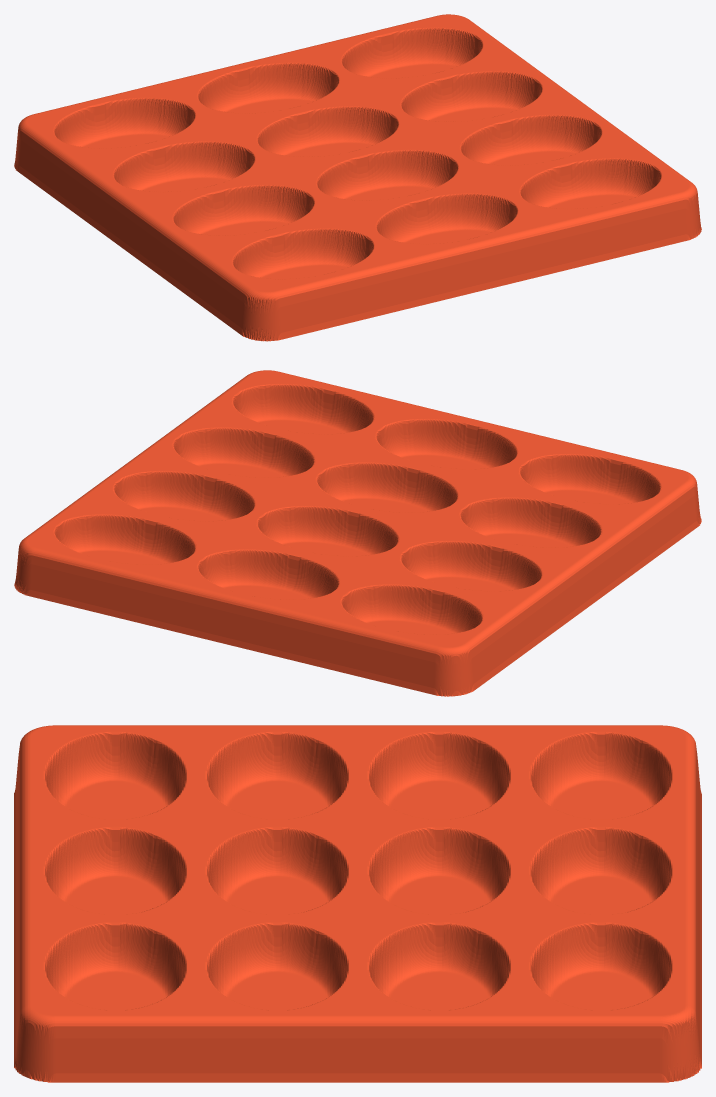
File: mold.glb
3 renders of one model, top to bottom at view 1: azimuth 30°, elevation 25°; view 2: azimuth 150°, elevation 25°; view 3: azimuth 270°, elevation 25°, orthographic. The views are drawn at different scales.
Parts seen in each view (by area): view 1: geometry_0; view 2: geometry_0; view 3: geometry_0.
Boxes of the visible parts, left/top/right/bottom form: geometry_0: left=14, top=14, right=701, bottom=341; geometry_0: left=14, top=370, right=701, bottom=696; geometry_0: left=14, top=725, right=701, bottom=1082.
Size of the model in its own units: 0.1575 by 0.0145 by 0.151.
